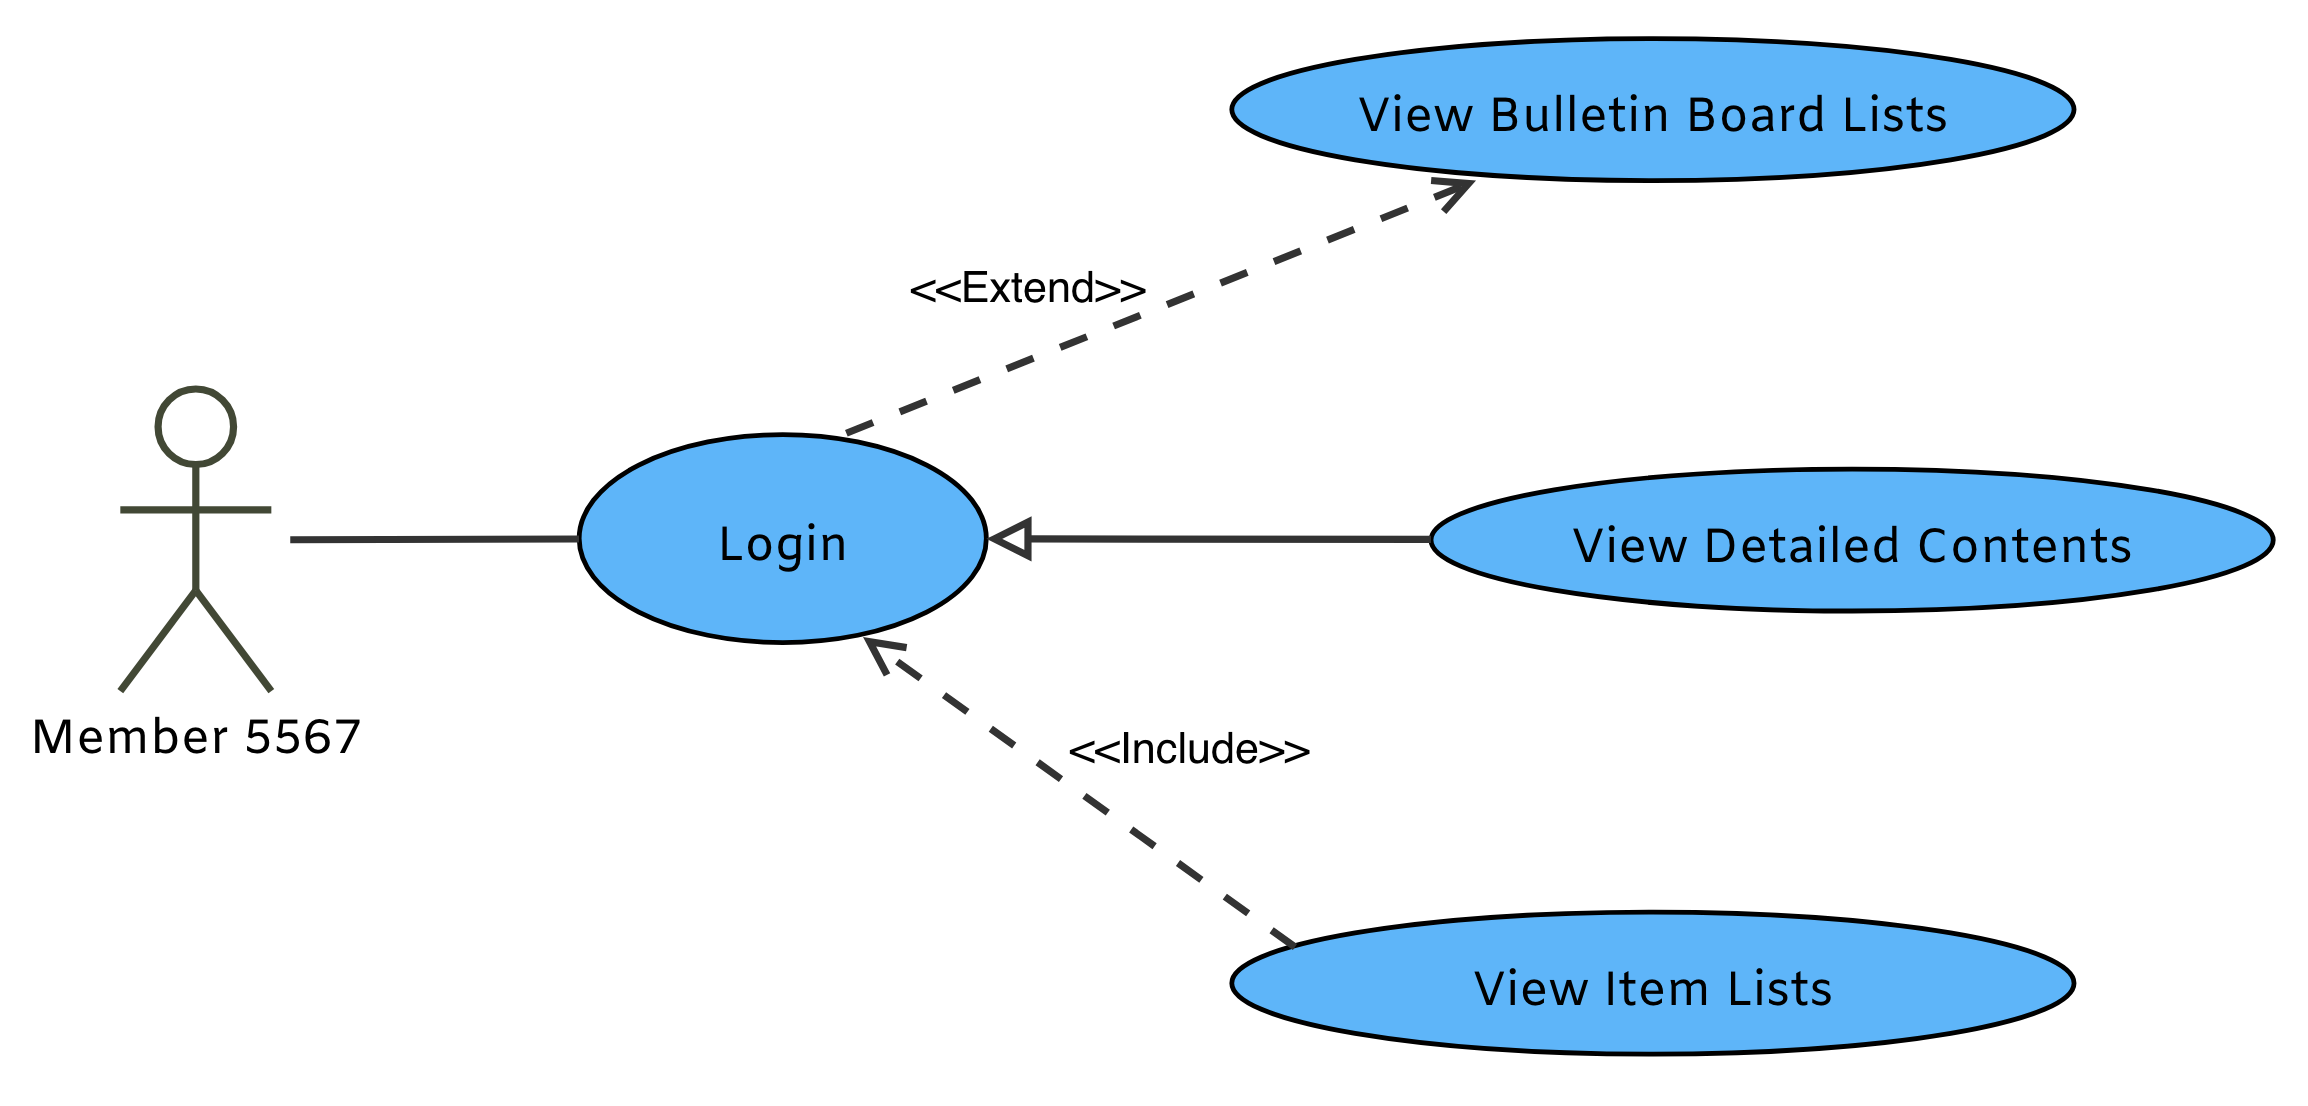actor: (115, 381, 283, 695)
association: (838, 177, 1482, 436), (858, 632, 1297, 948), (286, 526, 576, 551)
generalization: (989, 515, 1432, 563)
text: (1357, 88, 1964, 146), (1571, 517, 2131, 577), (1468, 959, 1838, 1015), (28, 708, 367, 769), (907, 258, 1148, 309), (1061, 725, 1316, 773), (712, 518, 860, 577)
use_case: (1426, 465, 2279, 621), (1228, 906, 2075, 1062), (1228, 29, 2081, 184), (576, 432, 994, 649)
